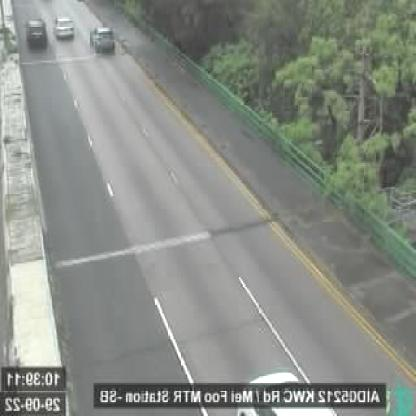Car: (236, 373, 342, 414), (23, 16, 52, 52), (90, 23, 118, 57), (49, 10, 78, 40)
